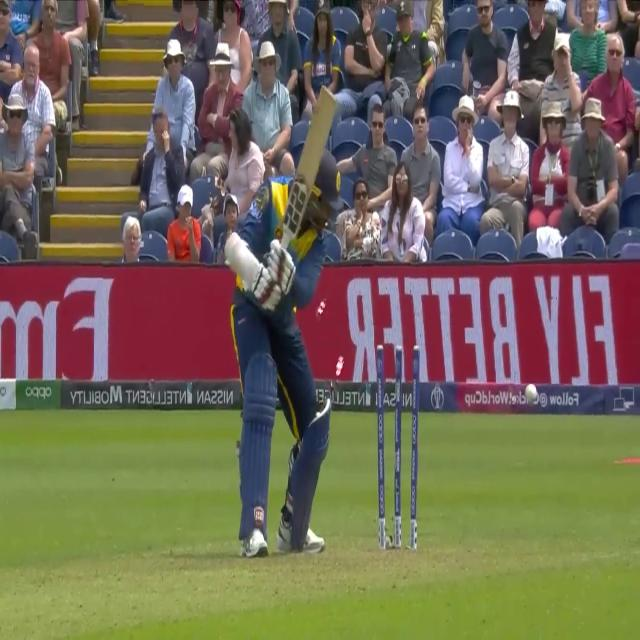ball: (519, 382, 541, 412)
